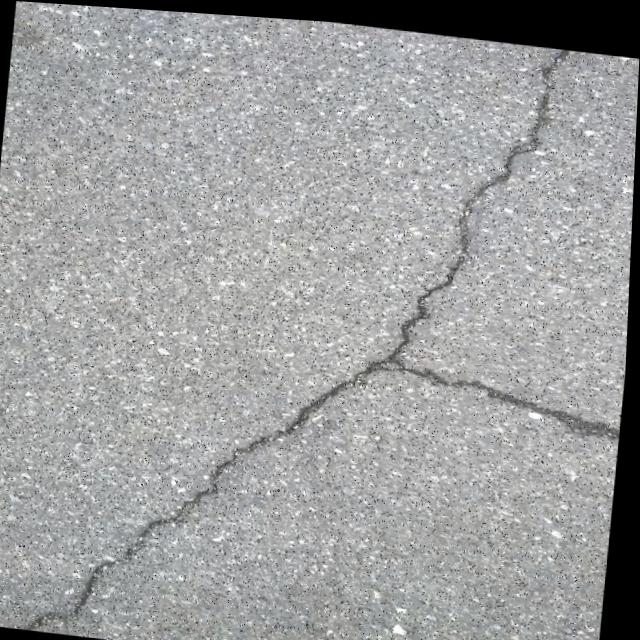Crack: (23, 2, 640, 640)
